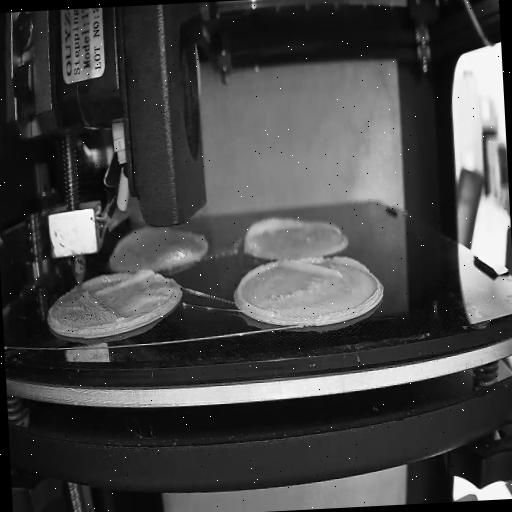over_extrusion: (234, 260, 282, 318), (281, 253, 370, 283), (242, 212, 304, 254), (96, 268, 152, 295)
